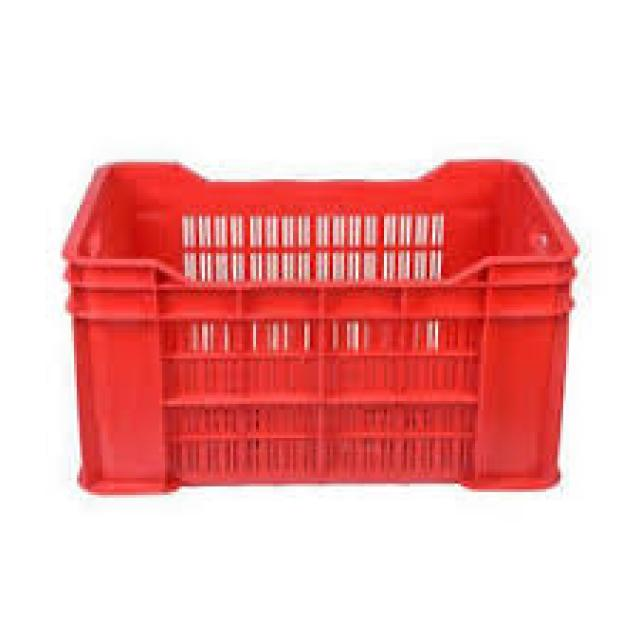basket: (64, 155, 585, 495)
